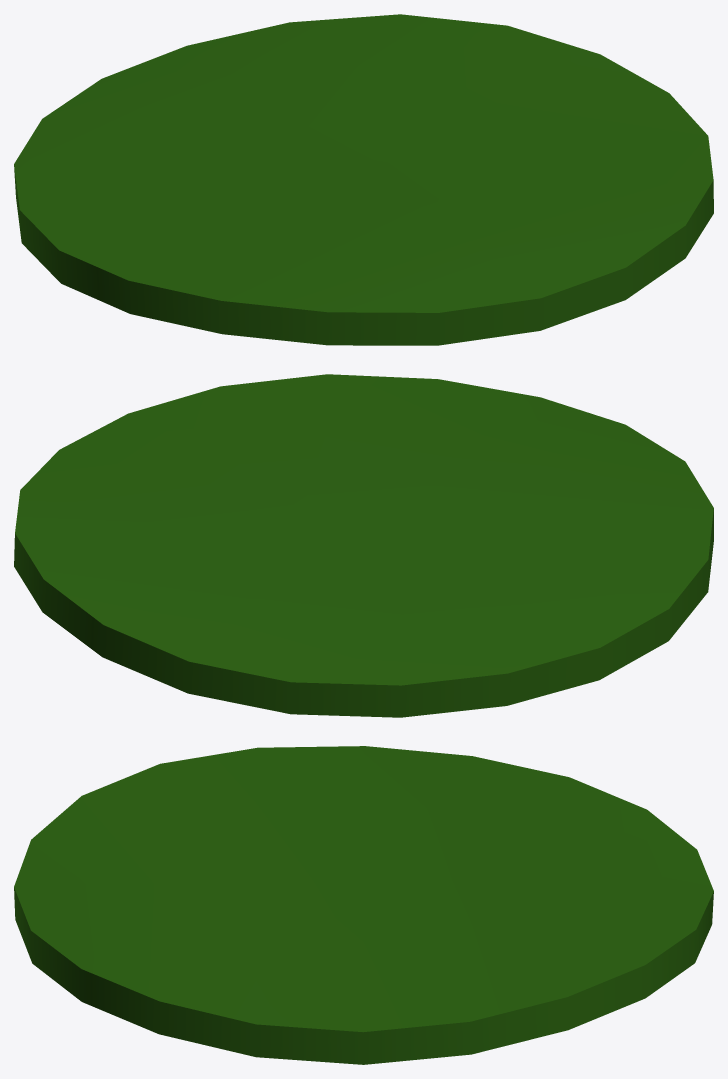
The model's file is m_pepperoni.FBX.
The picture shows the model from 3 angles, top to bottom: view 1: azimuth 30°, elevation 25°; view 2: azimuth 150°, elevation 25°; view 3: azimuth 270°, elevation 25°; orthographic projection.
Visible parts, largest first — view 1: m_pepperoni; view 2: m_pepperoni; view 3: m_pepperoni.
Boxes of the visible parts, left/top/right/bottom form: m_pepperoni: left=14, top=14, right=713, bottom=345; m_pepperoni: left=14, top=374, right=713, bottom=717; m_pepperoni: left=14, top=746, right=713, bottom=1064.
Bounding box in the file's own units: 31.98 × 2.61 × 32.05.
